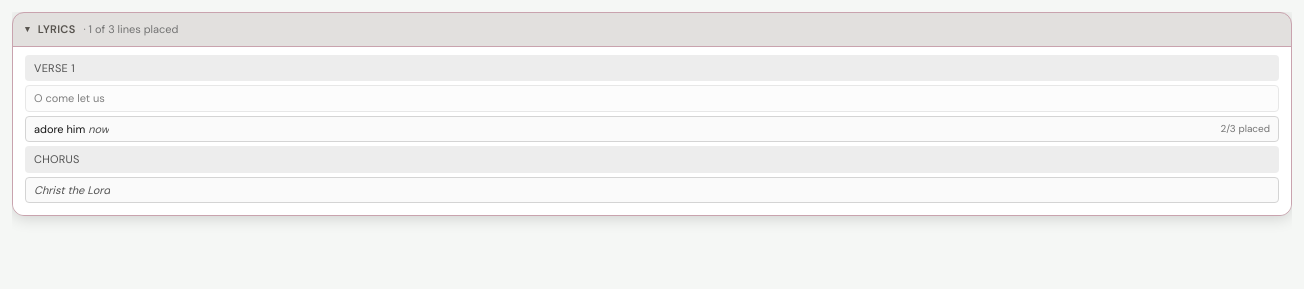
Test: LyricDrawer — pick mode › cancelling the move arms nothing — no write to undo
Click the button "adore him now 2/3 placed". click: point(1253, 129)
box: [25, 116, 1279, 142]
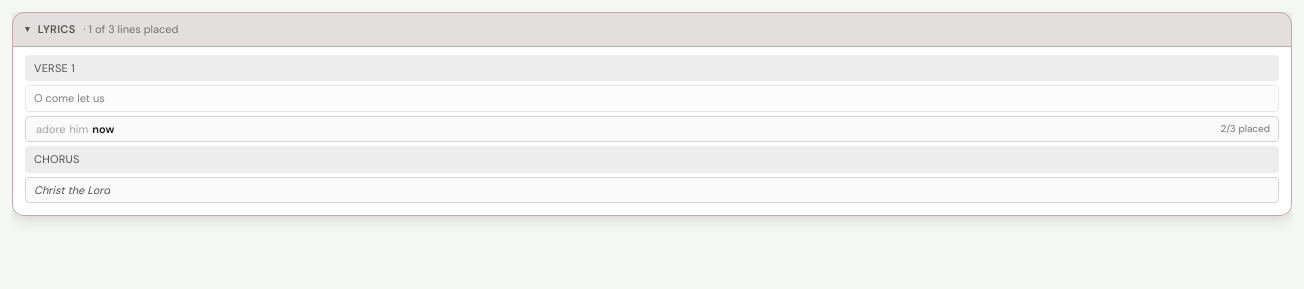
Click the button "adore". click: point(51, 129)
box: [34, 120, 68, 137]
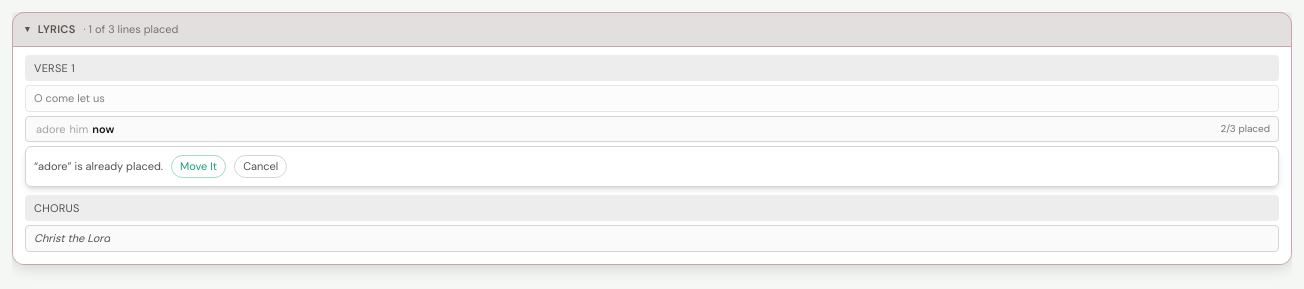
Click the button "Cancel". click: point(261, 166)
box: [234, 155, 287, 178]
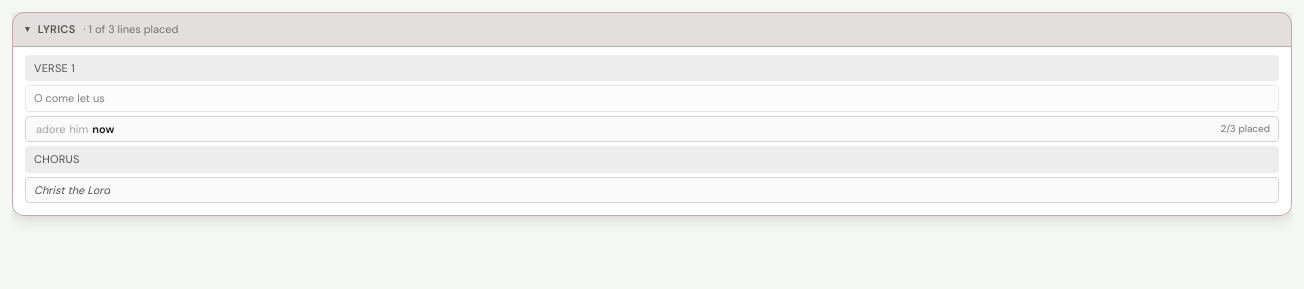
Now the text "is already placed" is gone
